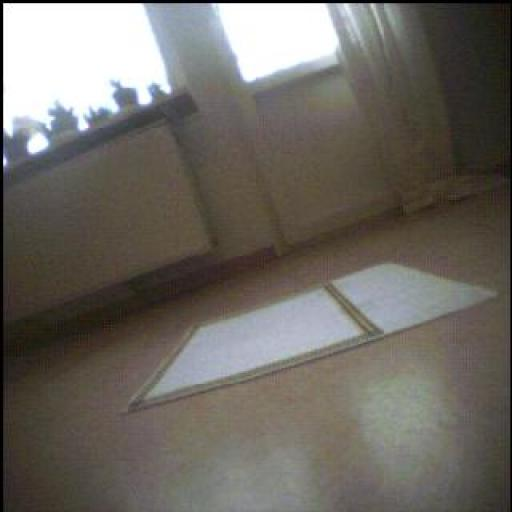Pad: (131, 265, 497, 411)
